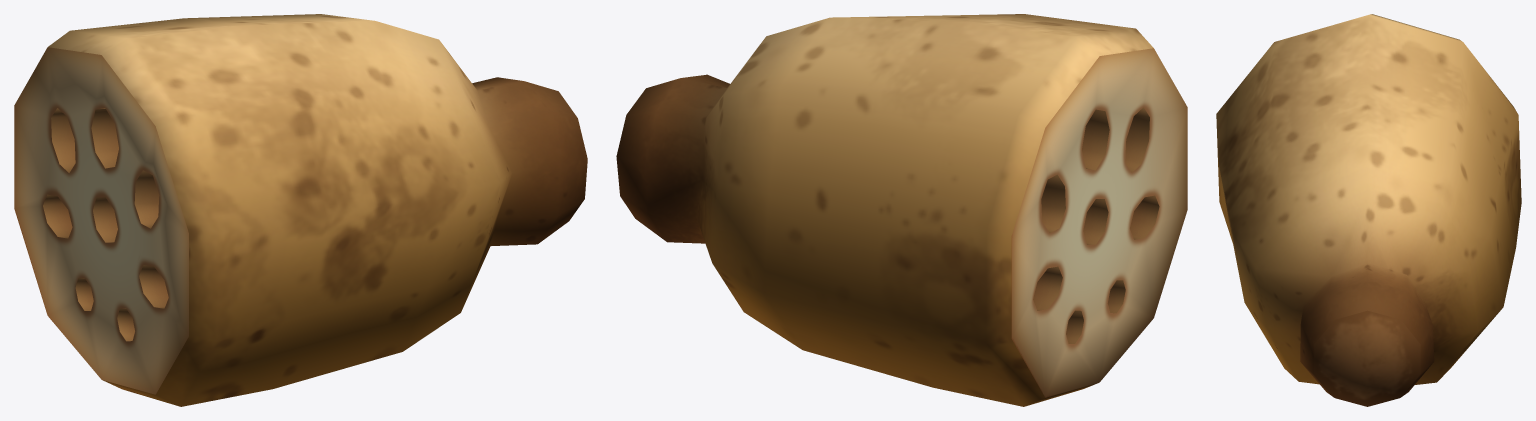
The model's file is Lotus_Half.fbx.
The picture shows the model from 3 angles, left to right: view 1: azimuth 30°, elevation 25°; view 2: azimuth 150°, elevation 25°; view 3: azimuth 270°, elevation 25°; orthographic projection. The views are drawn at different scales.
Visible parts, largest first — view 1: Lotus_Half; view 2: Lotus_Half; view 3: Lotus_Half.
Part boxes in pixels (bbox=[...]): Lotus_Half: bbox=[14, 14, 587, 406]; Lotus_Half: bbox=[616, 14, 1187, 406]; Lotus_Half: bbox=[1216, 14, 1521, 406].
Bounding box in the file's own units: 55.14 × 39.36 × 38.6.
